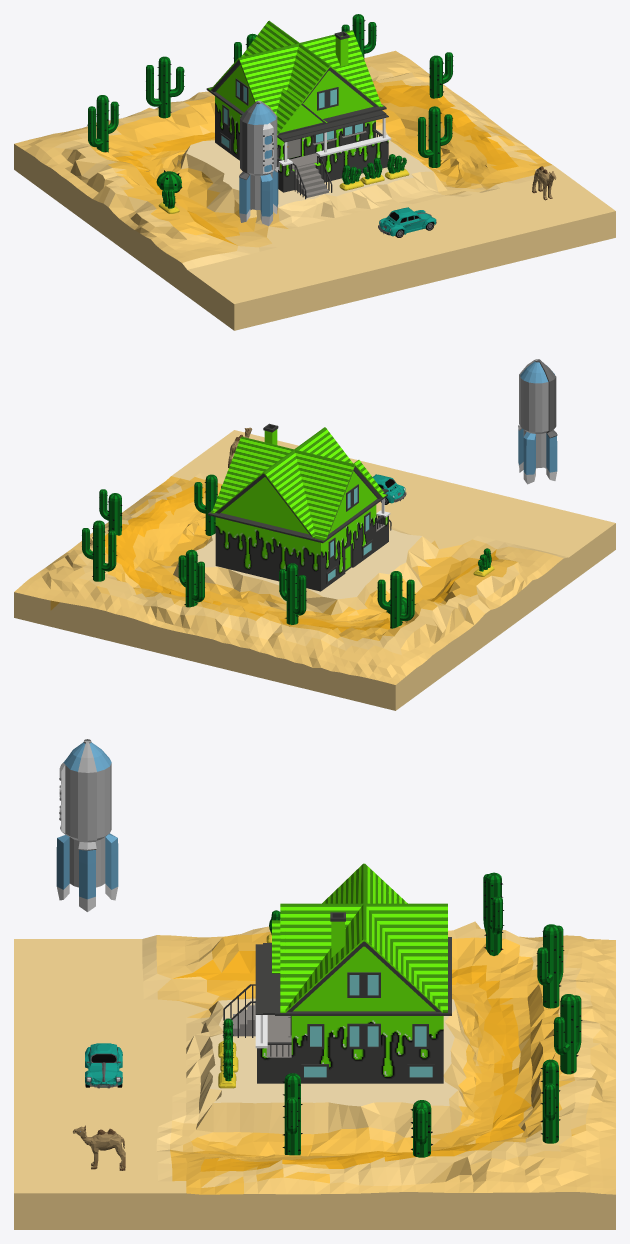
3 views of the same model, one above another, from view 1: azimuth 30°, elevation 25°; view 2: azimuth 150°, elevation 25°; view 3: azimuth 270°, elevation 25° (orthographic). The views are drawn at different scales.
Parts seen in each view (by area): view 1: Cube.001, Cube.754, OBJRANDOM_ROCKETSHIP, Cylinder.044, Cylinder.037, Cylinder.045, VEHICLES_VOLKSWAGEN, Cylinder.038, Cylinder.042, ANIMAL_CAMELLO, Cylinder.041, Cylinder.039 (+1 smaller); view 2: Cube.001, Cube.754, OBJRANDOM_ROCKETSHIP, Cylinder.045, Cylinder.042, Cylinder.044, Cylinder.043, Cylinder.037, Cylinder.038, VEHICLES_VOLKSWAGEN; view 3: Cube.001, Cube.754, OBJRANDOM_ROCKETSHIP, Cylinder.044, Cylinder.043, VEHICLES_VOLKSWAGEN, Cylinder.045, Cylinder.042, Cylinder.037, Cylinder.038, ANIMAL_CAMELLO.
Boxes of the visible parts, x1,y1,x2,y2 form: Cube.001: [14, 50, 615, 330]; Cube.754: [206, 20, 391, 199]; OBJRANDOM_ROCKETSHIP: [239, 100, 278, 225]; Cylinder.044: [146, 56, 184, 118]; Cylinder.037: [417, 106, 452, 167]; Cylinder.045: [87, 95, 119, 152]; VEHICLES_VOLKSWAGEN: [378, 207, 436, 237]; Cylinder.038: [429, 52, 453, 98]; Cylinder.042: [341, 14, 376, 58]; ANIMAL_CAMELLO: [532, 166, 556, 200]; Cylinder.041: [385, 154, 409, 179]; Cylinder.039: [339, 165, 363, 190]; Cube.001: [14, 430, 615, 710]; Cube.754: [208, 423, 391, 591]; OBJRANDOM_ROCKETSHIP: [518, 359, 557, 484]; Cylinder.045: [377, 571, 415, 628]; Cylinder.042: [82, 520, 117, 581]; Cylinder.044: [279, 563, 306, 624]; Cylinder.043: [178, 549, 205, 607]; Cylinder.037: [194, 474, 221, 535]; Cylinder.038: [99, 489, 122, 535]; VEHICLES_VOLKSWAGEN: [372, 474, 406, 504]; Cube.001: [14, 921, 615, 1229]; Cube.754: [223, 863, 451, 1083]; OBJRANDOM_ROCKETSHIP: [56, 739, 118, 911]; Cylinder.044: [536, 924, 564, 1008]; Cylinder.043: [553, 994, 582, 1074]; VEHICLES_VOLKSWAGEN: [85, 1043, 122, 1088]; Cylinder.045: [483, 872, 504, 955]; Cylinder.042: [540, 1059, 560, 1143]; Cylinder.037: [282, 1073, 302, 1155]; Cylinder.038: [410, 1100, 432, 1157]; ANIMAL_CAMELLO: [73, 1125, 125, 1170].
Bounding box in the file's own units: 4002 × 2051 × 4001.
37 materials, 3 textured.
